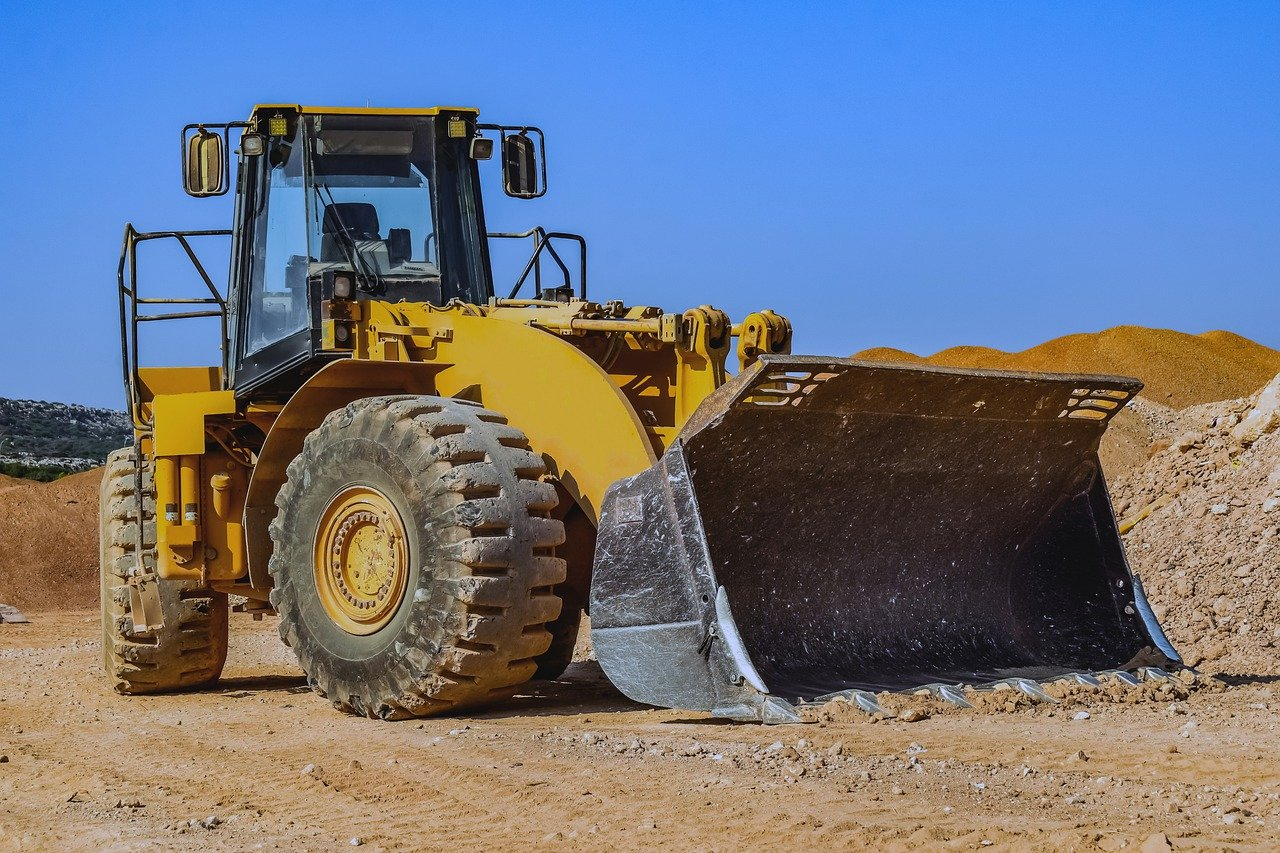bulldozer: (84, 97, 1208, 726)
